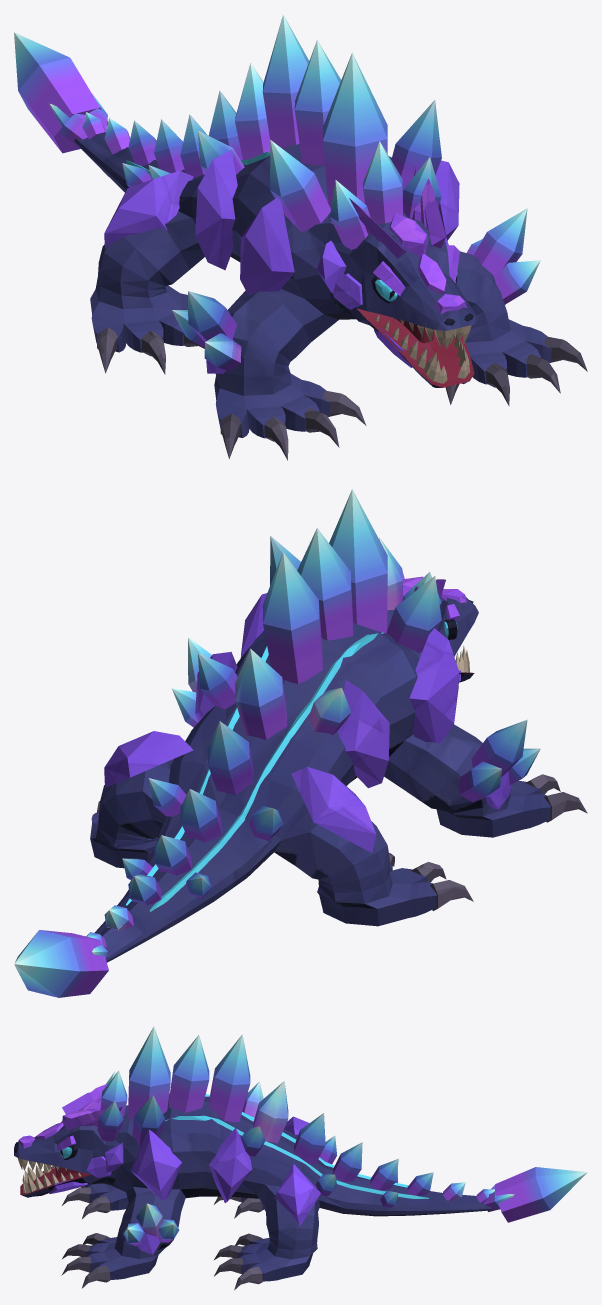
File: crystal-lizard.glb
3 renders of one model, top to bottom at view 1: azimuth 30°, elevation 25°; view 2: azimuth 150°, elevation 25°; view 3: azimuth 270°, elevation 25°, orthographic. The views are drawn at different scales.
Visible parts, largest first — view 1: Body, Crystals, Armor, Claws, Gem, Teeth; view 2: Body, Crystals, Armor, Glow_Neon, Claws, Gem; view 3: Body, Crystals, Armor, Claws, Gem, Glow_Neon, Teeth.
Boxes of the visible parts, x1=… form: Body: x1=74, y1=133, x2=551, y2=438; Crystals: x1=14, y1=14, x2=540, y2=371; Armor: x1=104, y1=150, x2=505, y2=373; Claws: x1=97, y1=327, x2=587, y2=460; Gem: x1=349, y1=167, x2=466, y2=314; Teeth: x1=375, y1=315, x2=471, y2=383; Body: x1=90, y1=596, x2=550, y2=962; Crystals: x1=14, y1=489, x2=540, y2=997; Armor: x1=104, y1=593, x2=511, y2=852; Glow_Neon: x1=125, y1=621, x2=457, y2=911; Claws: x1=97, y1=774, x2=587, y2=910; Gem: x1=402, y1=572, x2=466, y2=621; Body: x1=14, y1=1093, x2=499, y2=1281; Crystals: x1=97, y1=1026, x2=587, y2=1245; Armor: x1=49, y1=1116, x2=320, y2=1254; Claws: x1=61, y1=1185, x2=262, y2=1290; Gem: x1=18, y1=1084, x2=122, y2=1151; Glow_Neon: x1=59, y1=1094, x2=428, y2=1198; Teeth: x1=17, y1=1158, x2=80, y2=1193.
Bounding box in the file's own units: 2.93 × 2.45 × 6.16.
8 materials, 8 textured.
